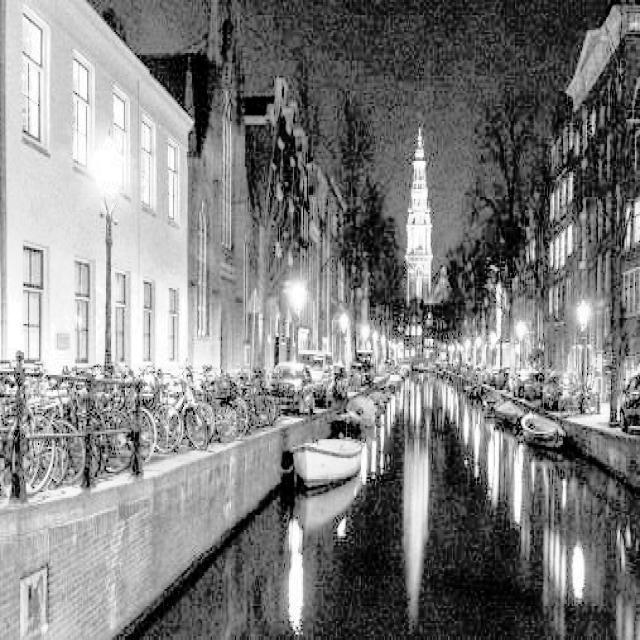Bicycle: (122, 366, 220, 486), (67, 352, 145, 498), (0, 345, 50, 502), (19, 371, 81, 491), (205, 376, 247, 448), (247, 361, 277, 445)
Car: (598, 379, 640, 468), (300, 341, 349, 399), (271, 344, 313, 406), (499, 346, 535, 397), (344, 350, 378, 396), (552, 366, 576, 408), (532, 362, 556, 404)
